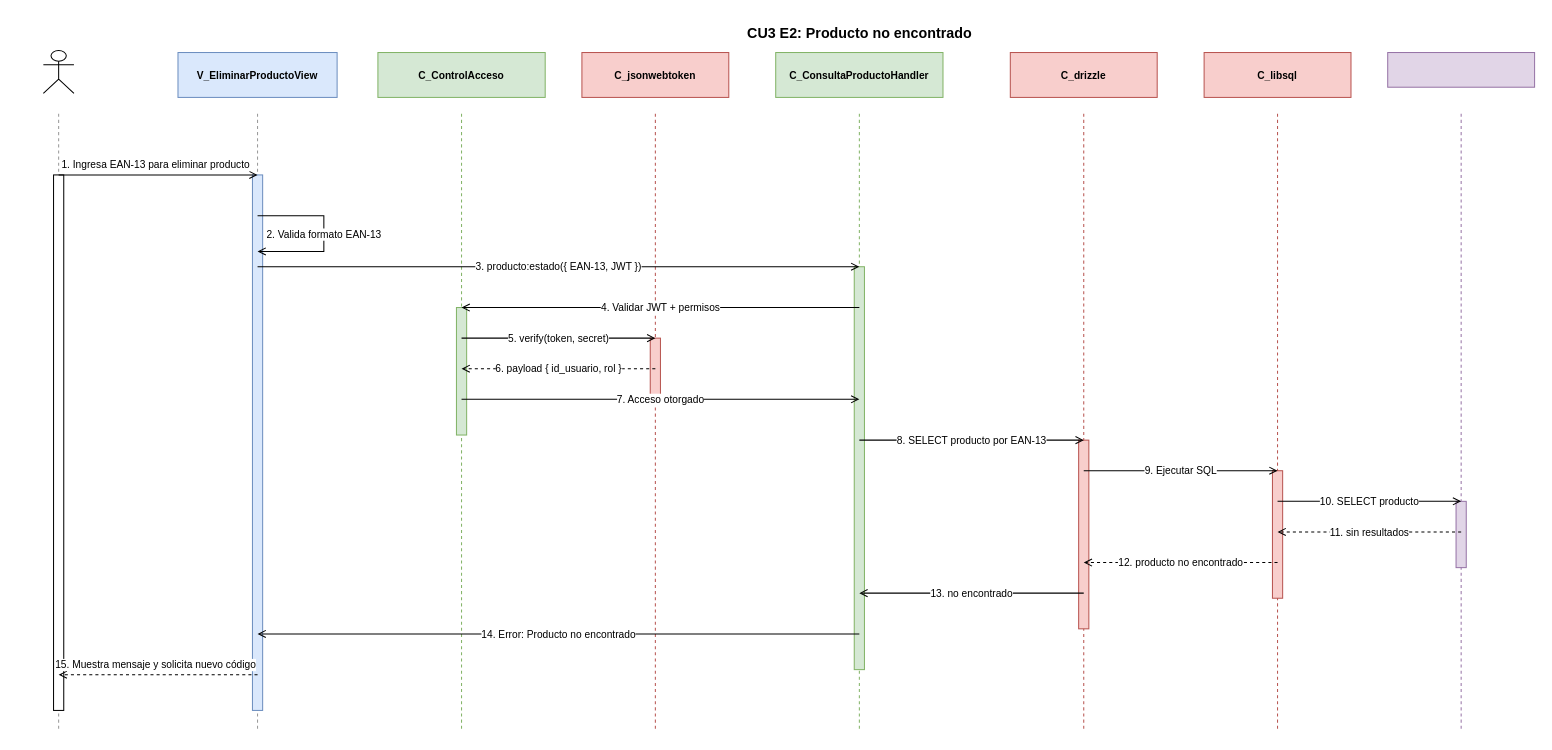
Some shapes in this 1552 by 750 pixel diagram are drawn without their labels. Each missing label, with the centre of its shape:
Dueño/Trabajador: point 58,71
producto: point 1461,69
